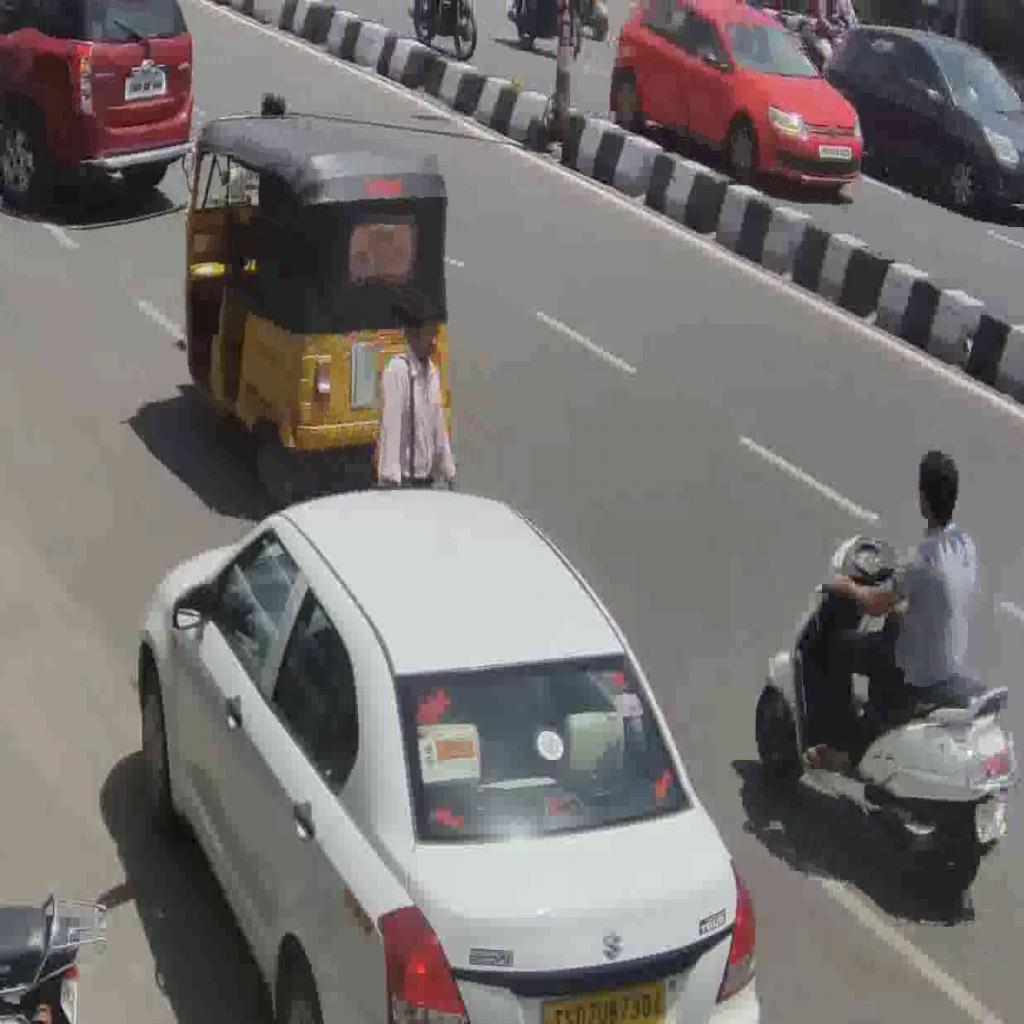helmet: (753, 531, 1020, 897)
